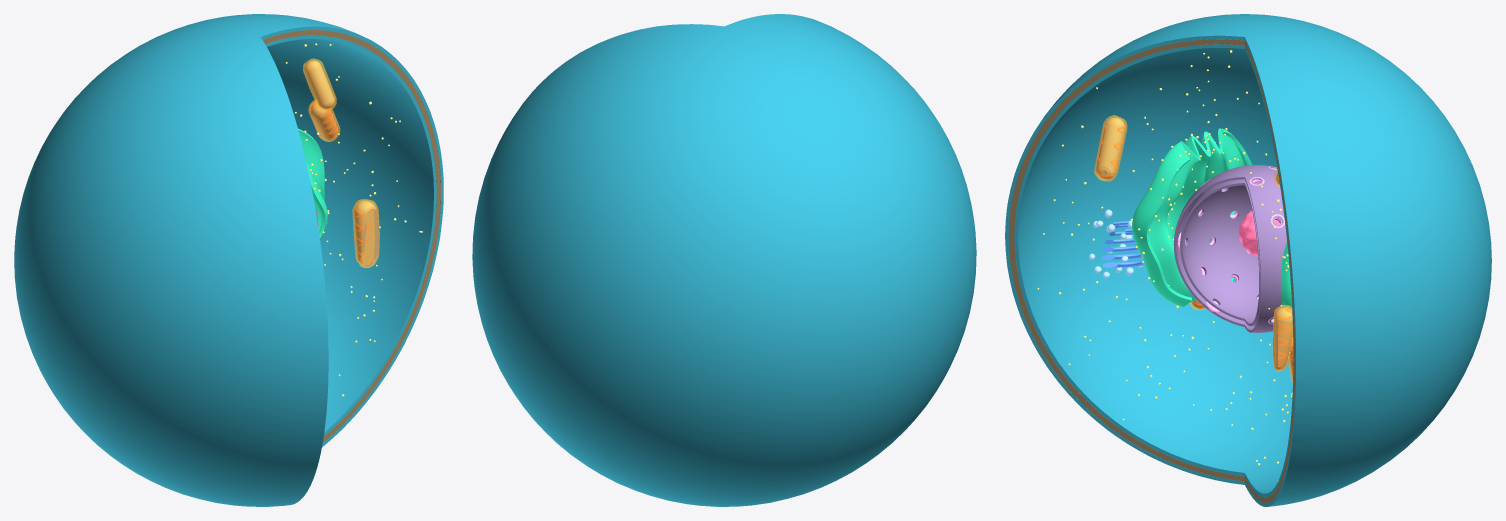
The picture shows the model from 3 angles, left to right: view 1: azimuth 30°, elevation 25°; view 2: azimuth 150°, elevation 25°; view 3: azimuth 270°, elevation 25°; orthographic projection. The views are drawn at different scales.
Parts seen in each view (by area): view 1: 质膜-外层磷脂头部 Membrane Outer Leaflet.001, 质膜-内层磷脂头部 Membrane Inner Leaflet.001, 质膜-疏水尾部 Membrane Lipid Tails.001, 线粒体01-外膜 Mito01 Outer Membrane.001, 线粒体01-基质 Mito01 Matrix.001, 线粒体08-外膜 Mito08 Outer Membrane.001, 粗面内质网02 ER Cisterna 02.001, 线粒体08-基质 Mito08 Matrix.001, 线粒体02-外膜 Mito02 Outer Membrane.001, 粗面内质网01 ER Cisterna 01.001, 线粒体02-基质 Mito02 Matrix.001; view 2: 质膜-外层磷脂头部 Membrane Outer Leaflet.001; view 3: 质膜-外层磷脂头部 Membrane Outer Leaflet.001, 质膜-内层磷脂头部 Membrane Inner Leaflet.001, 核膜 Nuclear Envelope.001, 粗面内质网03 ER Cisterna 03.001, 质膜-疏水尾部 Membrane Lipid Tails.001, 线粒体06-外膜 Mito06 Outer Membrane.001, 线粒体01-外膜 Mito01 Outer Membrane.001, 线粒体06-基质 Mito06 Matrix.001, 线粒体01-基质 Mito01 Matrix.001, 核糖体-游离型 Ribosomes (free).001, 高尔基小泡 Golgi Vesicles.001, 核仁 Nucleolus.001 (+1 smaller).
Boxes of the visible parts, x1,y1,x2,y2 form: 质膜-外层磷脂头部 Membrane Outer Leaflet.001: (14,14,443,506); 质膜-内层磷脂头部 Membrane Inner Leaflet.001: (265,35,436,436); 质膜-疏水尾部 Membrane Lipid Tails.001: (262,30,440,442); 线粒体01-外膜 Mito01 Outer Membrane.001: (352,199,379,267); 线粒体01-基质 Mito01 Matrix.001: (354,201,377,266); 线粒体08-外膜 Mito08 Outer Membrane.001: (303,58,336,111); 粗面内质网02 ER Cisterna 02.001: (298,128,324,200); 线粒体08-基质 Mito08 Matrix.001: (305,60,334,108); 线粒体02-外膜 Mito02 Outer Membrane.001: (308,99,340,141); 粗面内质网01 ER Cisterna 01.001: (306,161,327,239); 线粒体02-基质 Mito02 Matrix.001: (311,102,337,139); 质膜-外层磷脂头部 Membrane Outer Leaflet.001: (472,14,976,506); 质膜-外层磷脂头部 Membrane Outer Leaflet.001: (1005,14,1491,506); 质膜-内层磷脂头部 Membrane Inner Leaflet.001: (1014,44,1294,497); 核膜 Nuclear Envelope.001: (1173,165,1286,332); 粗面内质网03 ER Cisterna 03.001: (1132,128,1252,307); 质膜-疏水尾部 Membrane Lipid Tails.001: (1008,39,1295,503); 线粒体06-外膜 Mito06 Outer Membrane.001: (1094,115,1127,181); 线粒体01-外膜 Mito01 Outer Membrane.001: (1272,305,1293,371); 线粒体06-基质 Mito06 Matrix.001: (1096,117,1125,179); 线粒体01-基质 Mito01 Matrix.001: (1273,307,1292,369); 核糖体-游离型 Ribosomes (free).001: (1037,50,1292,481); 高尔基小泡 Golgi Vesicles.001: (1088,209,1163,278); 核仁 Nucleolus.001: (1238,210,1279,256).
Size of the model in its own units: 1.98 by 2 by 1.97.
